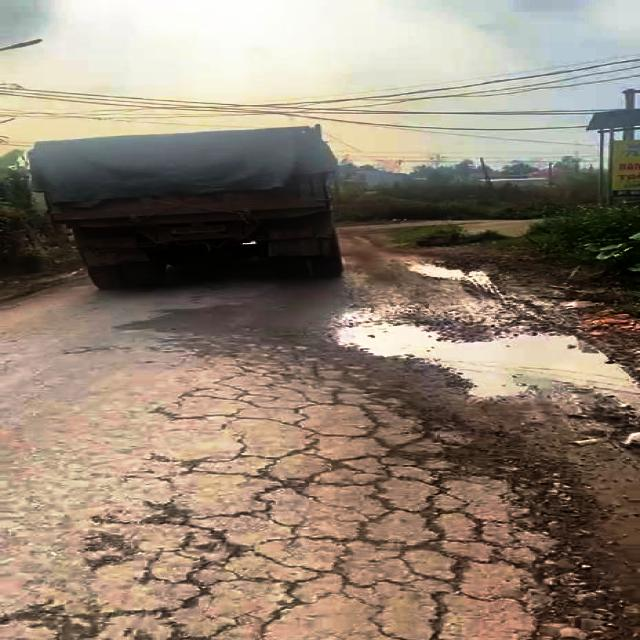pothole: (325, 317, 640, 406)
